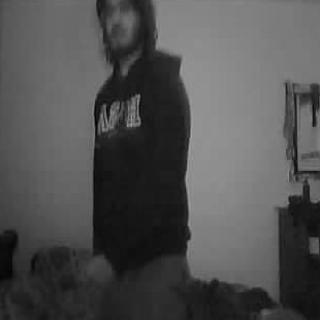Gray Sweatpants: (102, 260, 185, 320)
